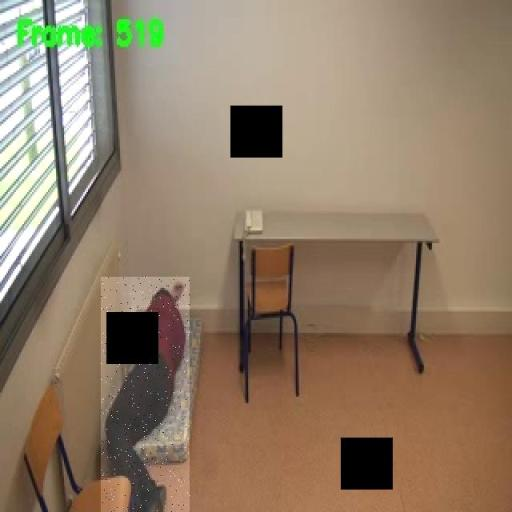Fall: (101, 277, 190, 512)
